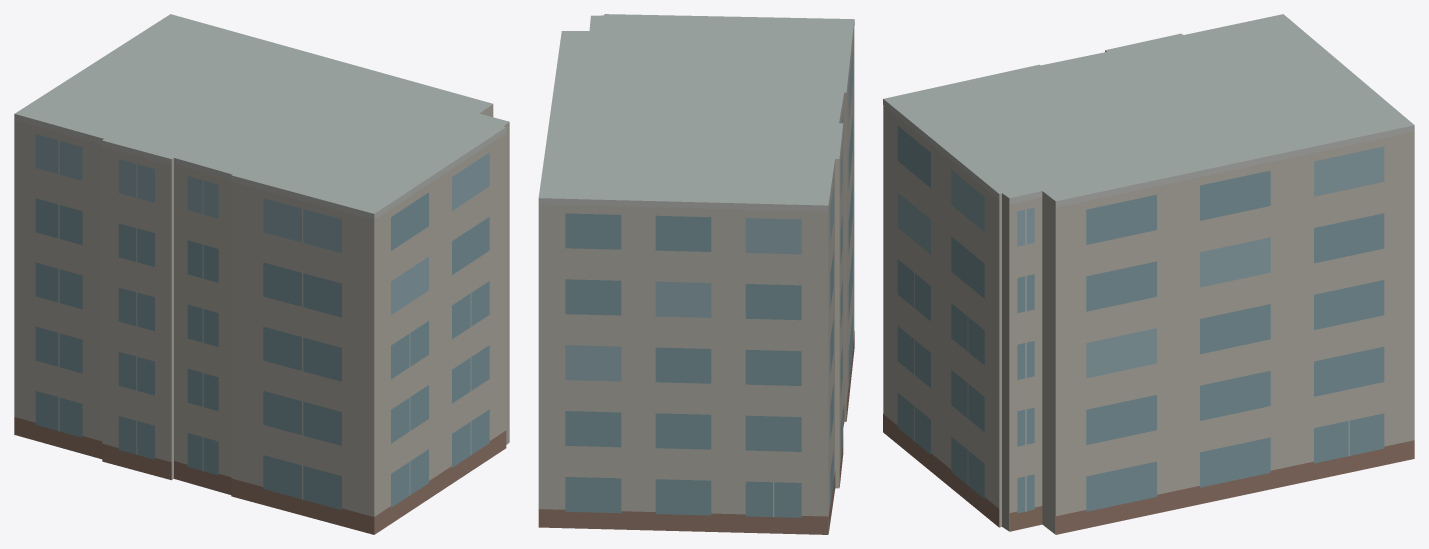
File: survey-upis-32837756.glb
3 views of the same model, side by side, from view 1: azimuth 30°, elevation 25°; view 2: azimuth 150°, elevation 25°; view 3: azimuth 270°, elevation 25° (orthographic). The views are drawn at different scales.
Parts seen in each view (by area): view 1: survey-upis-32837756.tmp; view 2: survey-upis-32837756.tmp; view 3: survey-upis-32837756.tmp.
Part boxes in pixels (x1,y1,x2,y2): survey-upis-32837756.tmp: (14, 14, 509, 534); survey-upis-32837756.tmp: (538, 14, 854, 534); survey-upis-32837756.tmp: (883, 14, 1414, 534).
Size of the model in its own units: 15.79 by 13.1 by 18.93.
